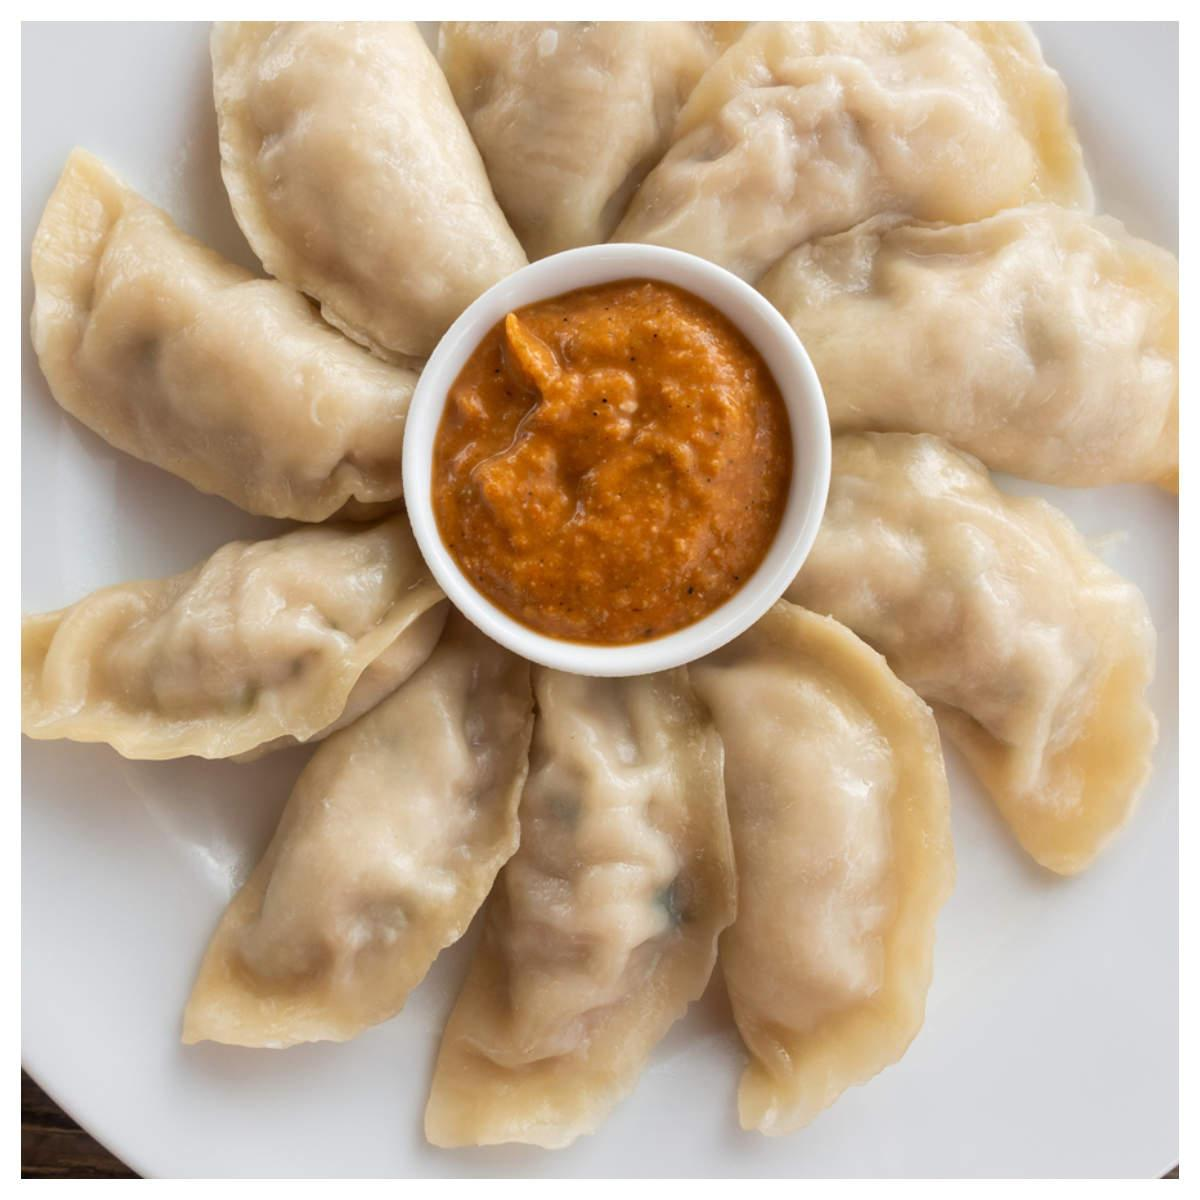momos: (785, 434, 1158, 875), (182, 614, 534, 1047), (424, 668, 736, 1148), (31, 147, 415, 522), (689, 600, 956, 1134), (612, 13, 1090, 274), (757, 204, 1177, 488), (211, 23, 527, 367), (23, 520, 447, 759), (438, 21, 720, 260)
